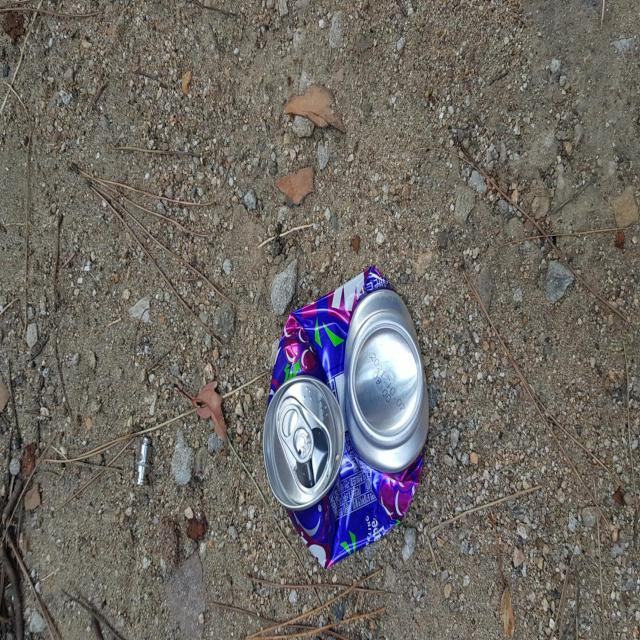can: (263, 266, 429, 567)
